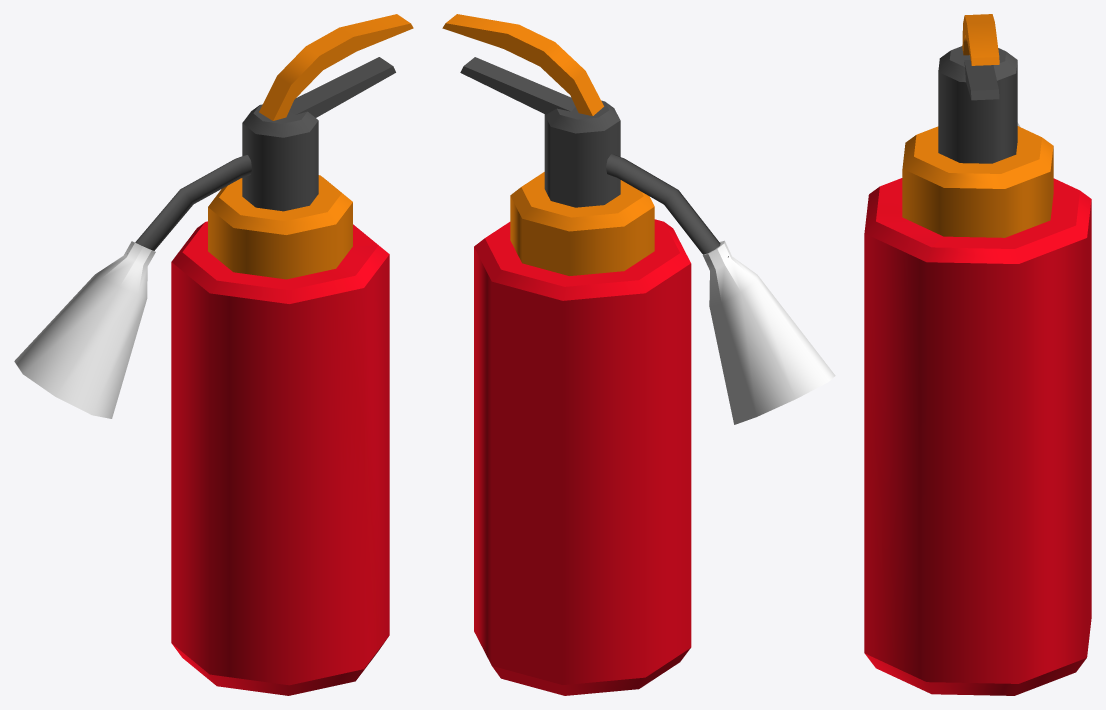
File: SM_Fire_Extinguisher.fbx
3 views of the same model, side by side, from view 1: azimuth 30°, elevation 25°; view 2: azimuth 150°, elevation 25°; view 3: azimuth 270°, elevation 25° (orthographic). The views are drawn at different scales.
Parts seen in each view (by area): view 1: SM_Fire_Extinguisher; view 2: SM_Fire_Extinguisher; view 3: SM_Fire_Extinguisher.
Part boxes in pixels (x1=…): SM_Fire_Extinguisher: x1=14, y1=14, x2=413, y2=695; SM_Fire_Extinguisher: x1=442, y1=14, x2=835, y2=695; SM_Fire_Extinguisher: x1=864, y1=14, x2=1091, y2=695.
Size of the model in its own units: 39.26 by 59.53 by 18.38.
